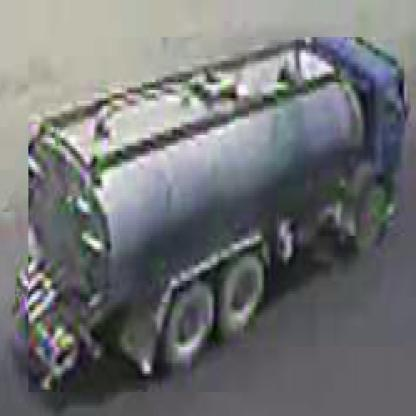truck: (28, 38, 405, 396)
